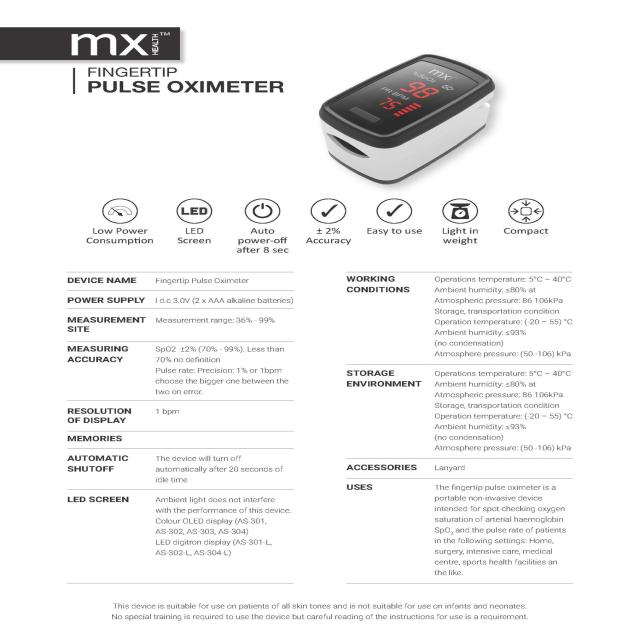oximeter: (301, 46, 502, 186)
